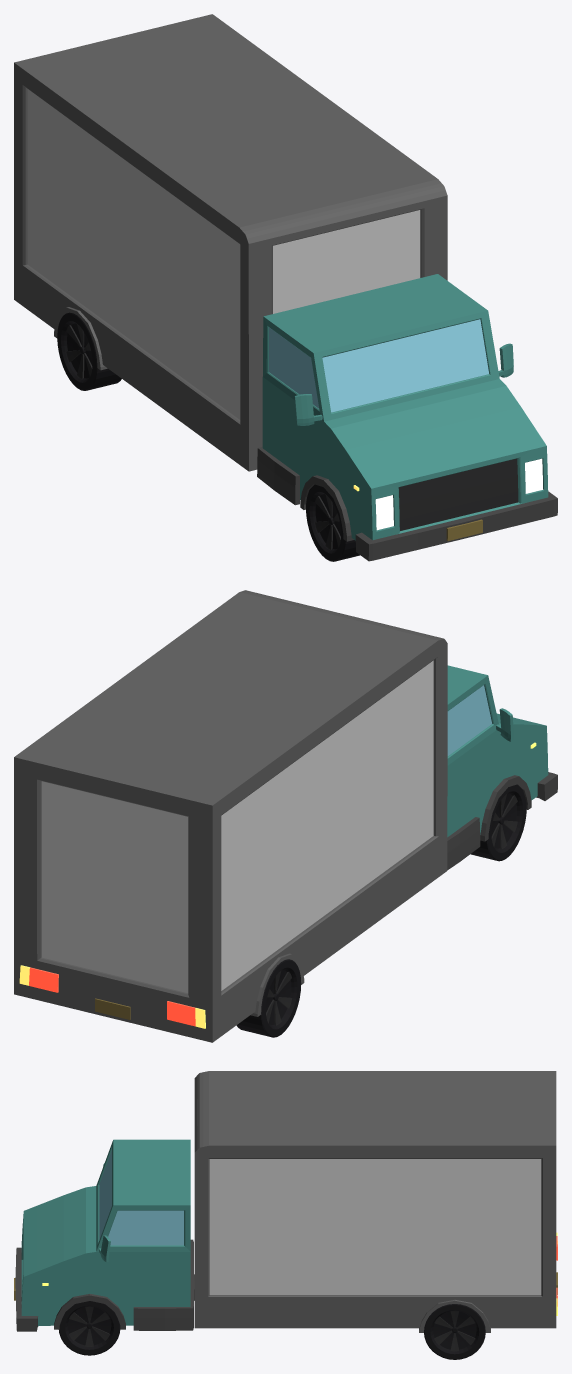
Rendered from Truck.fbx.
3 views of the same model, one above another, from view 1: azimuth 30°, elevation 25°; view 2: azimuth 150°, elevation 25°; view 3: azimuth 270°, elevation 25° (orthographic). The views are drawn at different scales.
Visible parts, largest first — view 1: Truck_Load, Truck, Truck_Wheel4, Truck_Wheel1; view 2: Truck_Load, Truck, Truck_Wheel4, Truck_Wheel1; view 3: Truck_Load, Truck, Truck_Wheel3, Truck_Wheel2.
Boxes of the visible parts, <box> form: Truck_Load: <box>14,14,447,471</box>; Truck: <box>257,274,557,561</box>; Truck_Wheel4: <box>57,312,121,390</box>; Truck_Wheel1: <box>306,484,359,561</box>; Truck_Load: <box>14,590,447,1042</box>; Truck: <box>447,665,557,870</box>; Truck_Wheel4: <box>236,959,301,1037</box>; Truck_Wheel1: <box>470,784,526,861</box>; Truck_Load: <box>194,1071,557,1332</box>; Truck: <box>14,1139,194,1331</box>; Truck_Wheel3: <box>424,1304,485,1359</box>; Truck_Wheel2: <box>59,1301,120,1355</box>.
Size of the model in its own units: 2.25 by 2.73 by 6.32.
